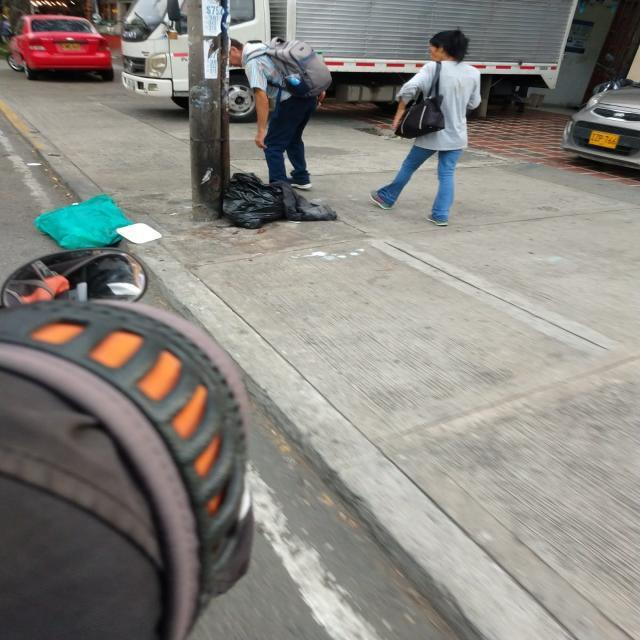Trashbag: (223, 168, 338, 233)
